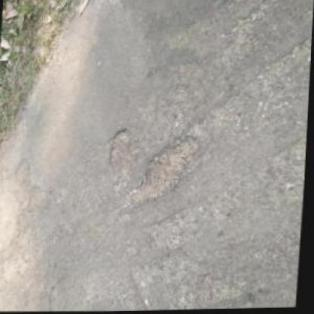Hueco: (128, 135, 200, 209), (197, 271, 246, 309), (108, 126, 134, 166)
